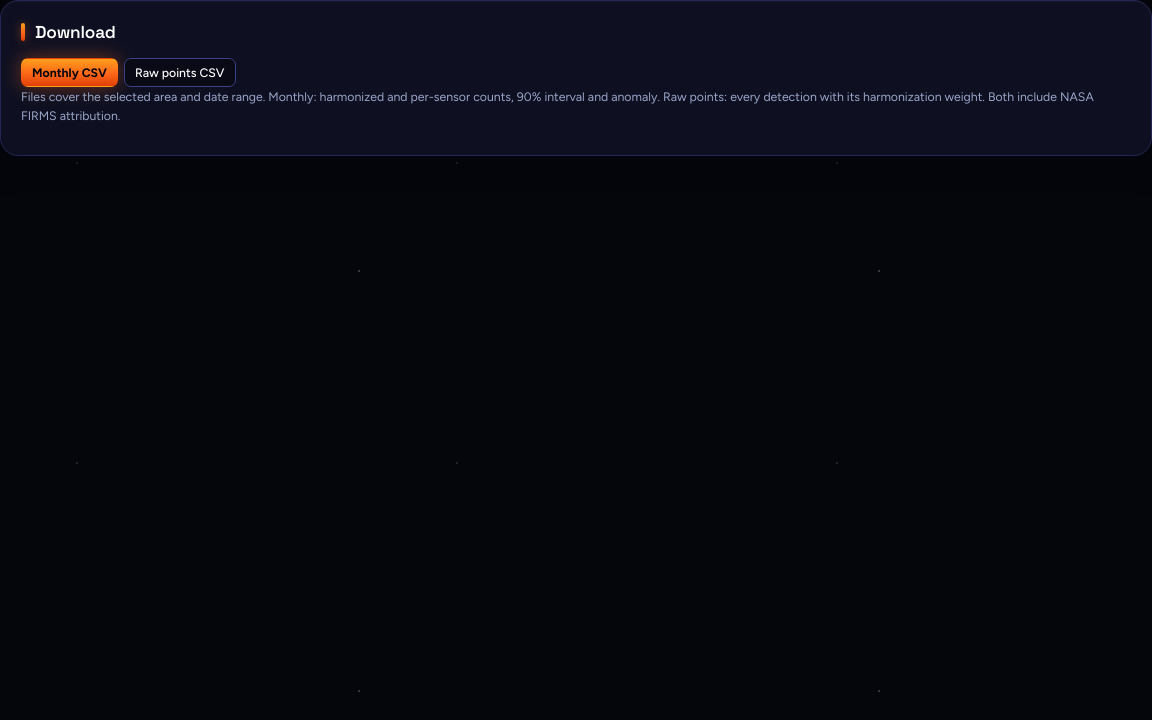
Test case: ExportPanel › downloads the monthly CSV for the active AOI and range with a dated filename
Click the button "Monthly CSV" at (69, 72), box [21, 58, 118, 87]
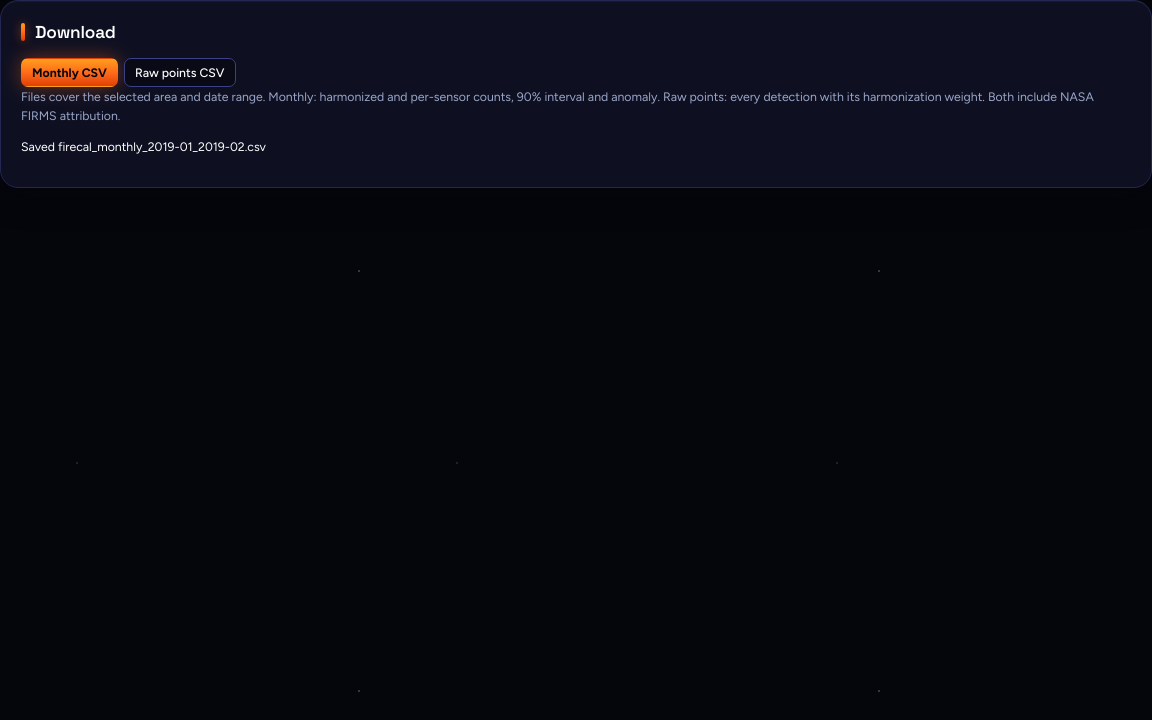
Result: the text "Saved firecal_monthly_2019-01_2019-02.csv" is shown at [21, 139, 266, 154]
